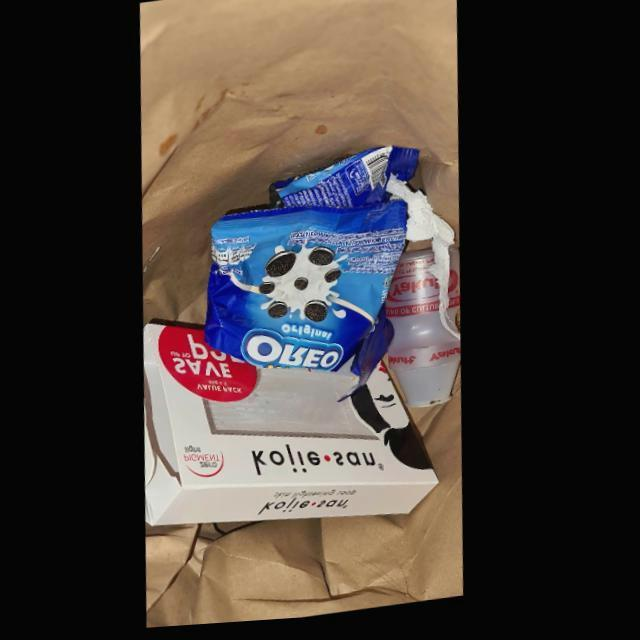cardboard: (147, 320, 446, 527)
food_wrapper: (209, 150, 421, 376)
paper: (386, 177, 465, 347)
plastic_bottle: (389, 251, 465, 415)
